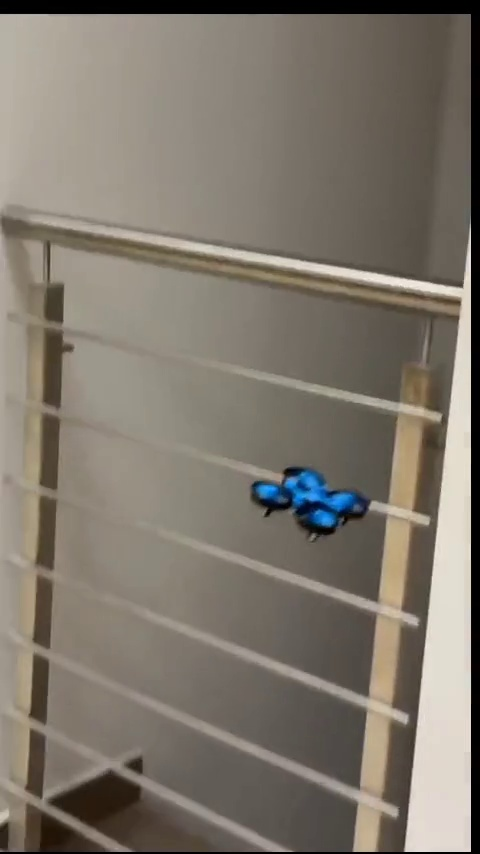drone: (254, 469, 361, 539)
